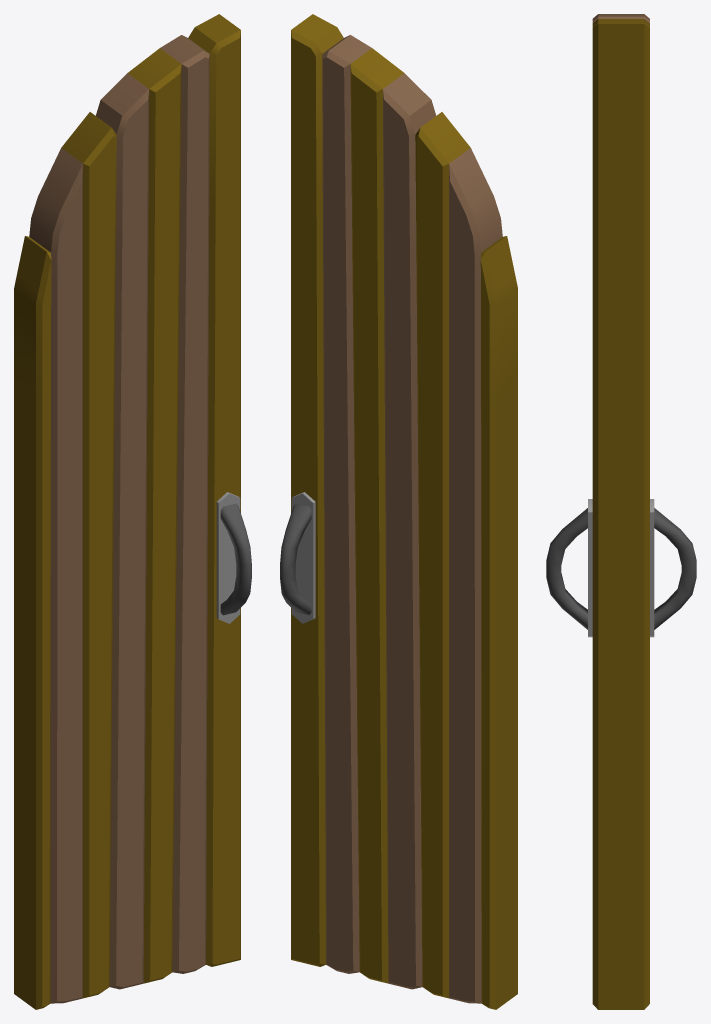
Rendered from HalfArchDoor-bkn.FBX.
3 renders of one model, left to right at view 1: azimuth 30°, elevation 25°; view 2: azimuth 150°, elevation 25°; view 3: azimuth 270°, elevation 25°, orthographic. The views are drawn at different scales.
Visible parts, largest first — view 1: ArchDoor_Part_1, ArchDoor_Part_4, ArchDoor_Part_5, ArchDoor_Part_3, ArchDoor_Part_8, ArchDoor_Part_10, ArchDoor_Part_7, ArchDoor_Part_2, ArchDoor_Part_9, ArchDoor_Part_6, Handle; view 2: ArchDoor_Part_1, ArchDoor_Part_5, ArchDoor_Part_7, ArchDoor_Part_10, ArchDoor_Part_6, ArchDoor_Part_3, ArchDoor_Part_4, ArchDoor_Part_9, ArchDoor_Part_8, Object004, ArchDoor_Part_2; view 3: ArchDoor_Part_1, ArchDoor_Part_5, ArchDoor_Part_3, ArchDoor_Part_2, ArchDoor_Part_9, ArchDoor_Part_10, ArchDoor_Part_4, Handle, Object004, ArchDoor_Part_6, ArchDoor_Part_8.
Boxes of the visible parts, x1,y1,x2,y2 form: ArchDoor_Part_1: (17, 14, 240, 294); ArchDoor_Part_4: (14, 503, 240, 768); ArchDoor_Part_5: (14, 192, 240, 395); ArchDoor_Part_3: (14, 351, 240, 504); ArchDoor_Part_8: (22, 766, 240, 970); ArchDoor_Part_10: (14, 608, 240, 794); ArchDoor_Part_7: (14, 760, 114, 1009); ArchDoor_Part_2: (148, 629, 240, 824); ArchDoor_Part_9: (91, 846, 240, 996); ArchDoor_Part_6: (14, 465, 210, 596); Handle: (216, 492, 251, 623); ArchDoor_Part_1: (291, 14, 515, 288); ArchDoor_Part_5: (291, 187, 517, 409); ArchDoor_Part_7: (318, 771, 517, 1009); ArchDoor_Part_10: (291, 608, 517, 811); ArchDoor_Part_6: (291, 477, 517, 620); ArchDoor_Part_3: (291, 363, 517, 491); ArchDoor_Part_4: (315, 538, 517, 761); ArchDoor_Part_9: (291, 846, 418, 989); ArchDoor_Part_8: (291, 757, 517, 878); Object004: (280, 492, 315, 623); ArchDoor_Part_2: (291, 738, 325, 822); ArchDoor_Part_1: (592, 14, 649, 194); ArchDoor_Part_5: (592, 188, 649, 376); ArchDoor_Part_3: (592, 361, 649, 524); ArchDoor_Part_2: (592, 655, 649, 865); ArchDoor_Part_9: (592, 887, 649, 1009); ArchDoor_Part_10: (592, 610, 649, 788); ArchDoor_Part_4: (592, 522, 649, 619); Handle: (546, 499, 592, 637); Object004: (650, 499, 696, 637); ArchDoor_Part_6: (602, 509, 649, 587); ArchDoor_Part_8: (592, 860, 649, 888).
Size of the model in its own units: 54.42 by 236 by 32.51.
